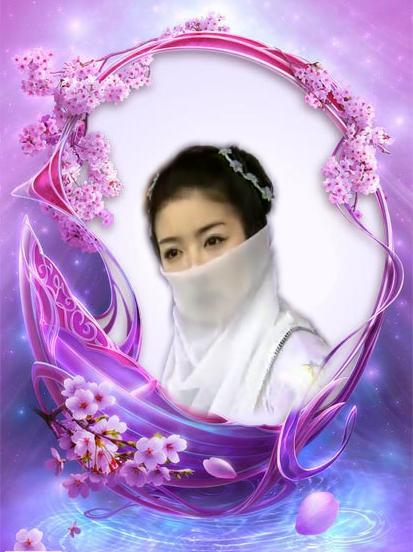WRONG: (156, 216, 258, 318)
